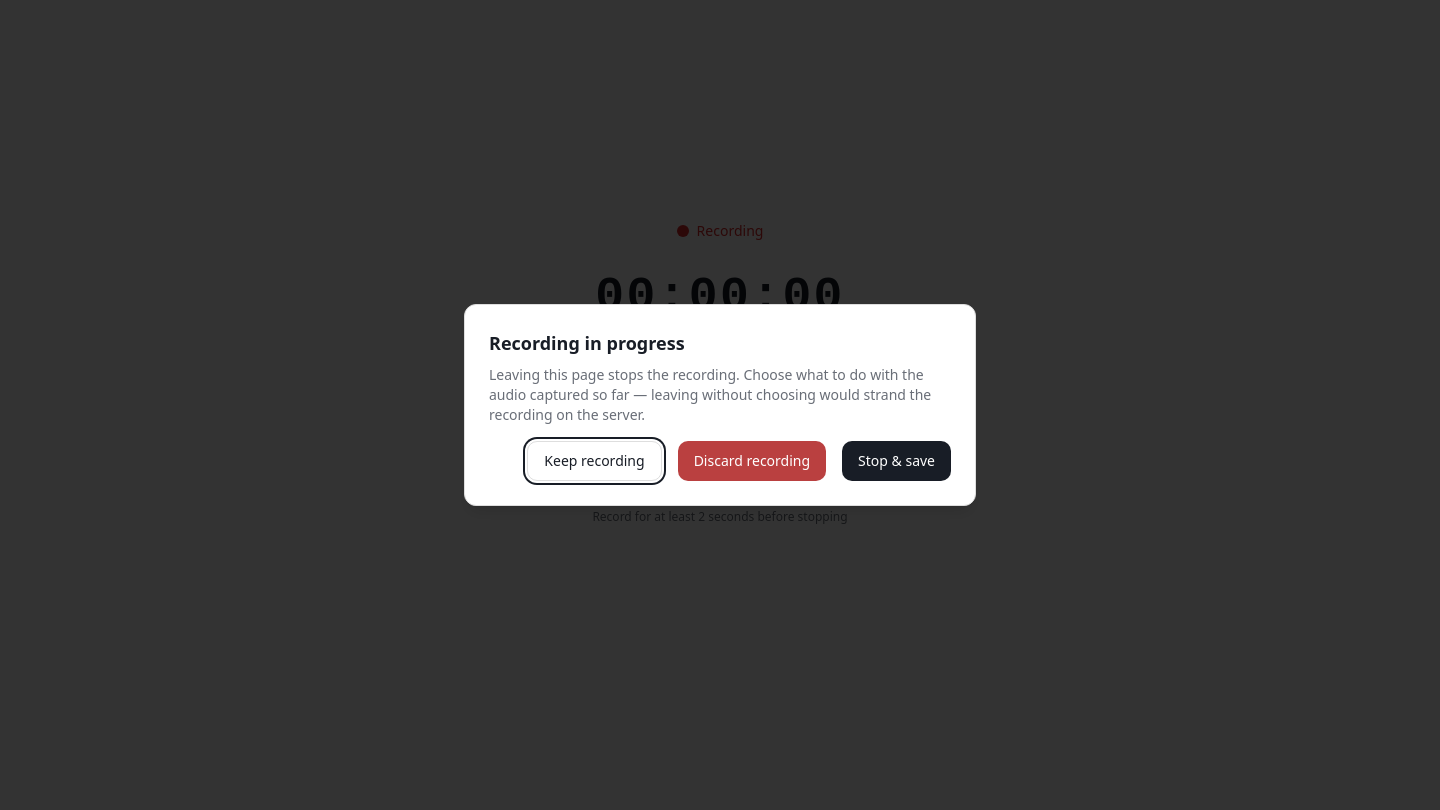
Test case: RecordingPage exit guard › keeps recording when the guard is dismissed
This screenshot has width=1440, height=810.
Click the button "Keep recording" at (594, 461), box x1=527 y1=441 x2=662 y2=481
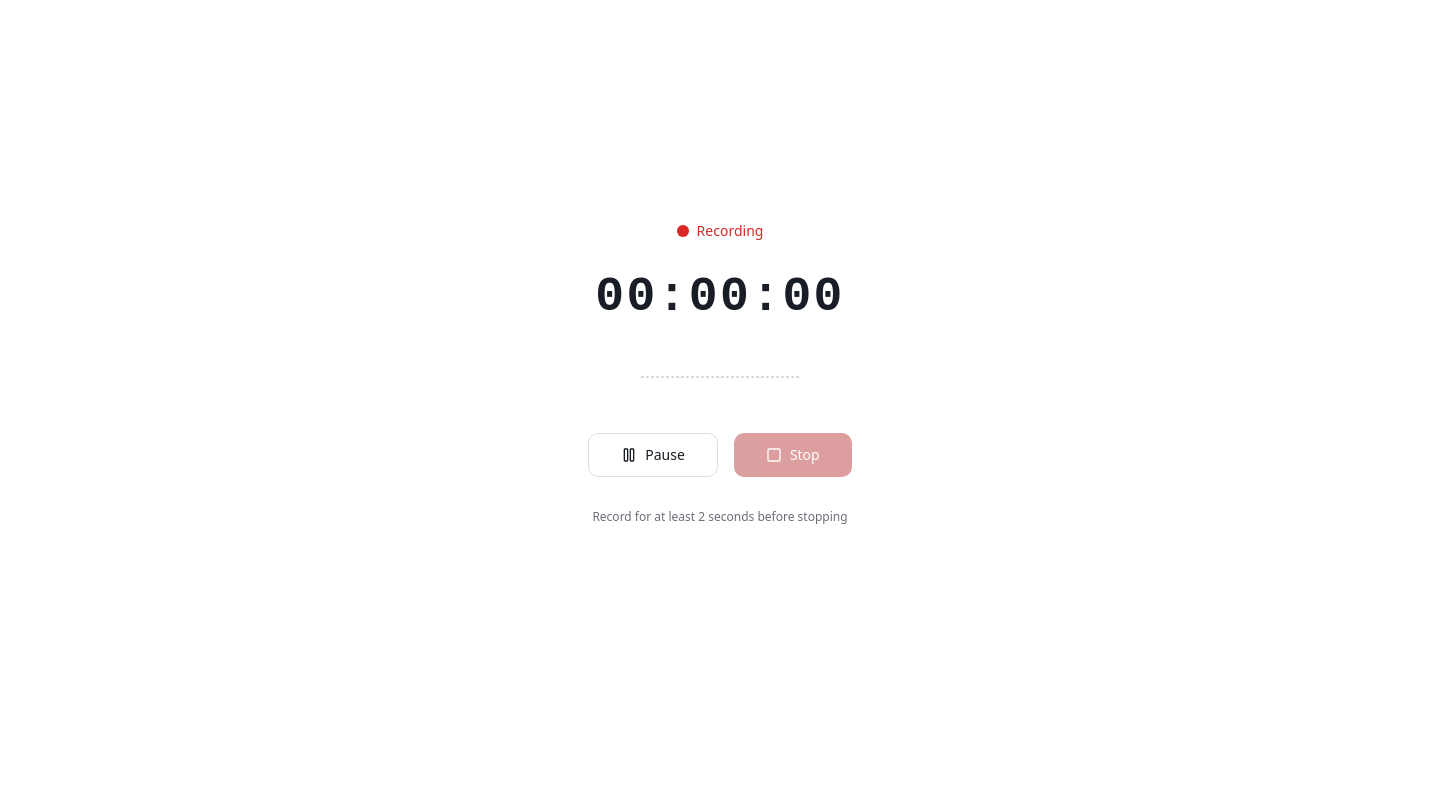
Expected: the heading "Recording in progress" is gone
